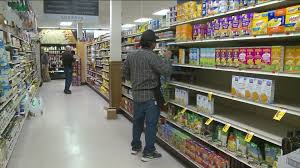Caution: (40, 45, 75, 93)
Good: (62, 29, 172, 161)
